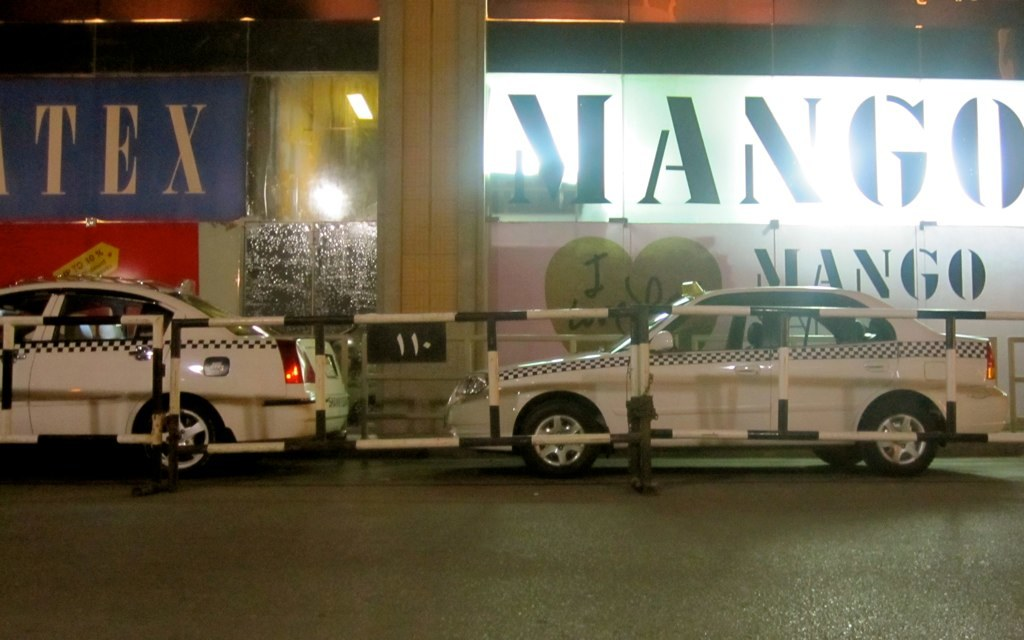Car: (444, 280, 1013, 479), (0, 268, 348, 474)
